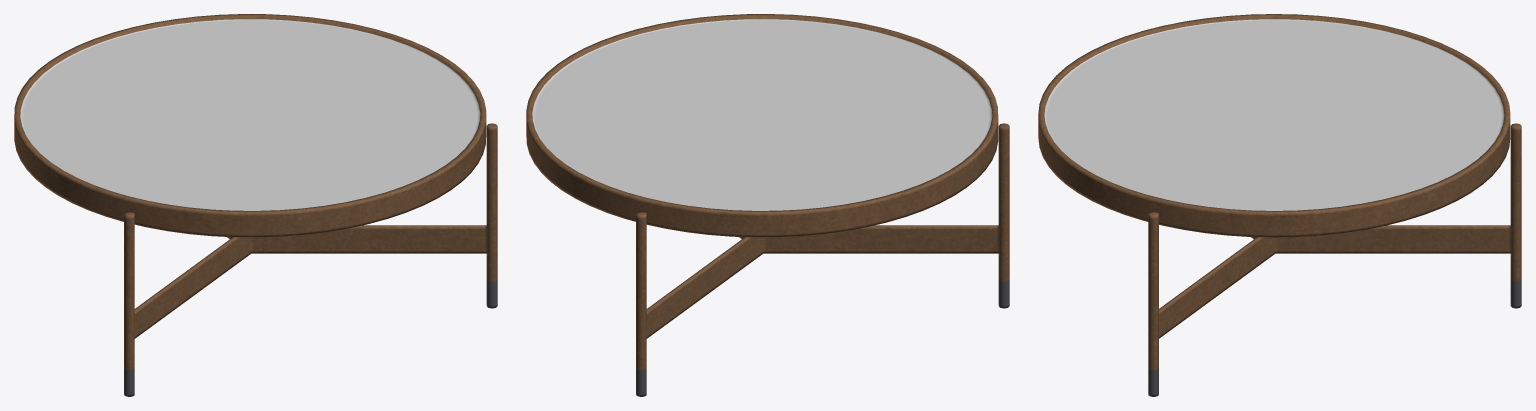
File: CoffeeTable2.fbx
3 views of the same model, side by side, from view 1: azimuth 30°, elevation 25°; view 2: azimuth 150°, elevation 25°; view 3: azimuth 270°, elevation 25° (orthographic).
Visible parts, largest first — view 1: SM_CoffeeTable2_01; view 2: SM_CoffeeTable2_01; view 3: SM_CoffeeTable2_01.
Part boxes in pixels (bbox=[...]): SM_CoffeeTable2_01: bbox=[14, 14, 497, 396]; SM_CoffeeTable2_01: bbox=[526, 14, 1009, 396]; SM_CoffeeTable2_01: bbox=[1038, 14, 1521, 396].
Size of the model in its own units: 80 by 36 by 81.9.
